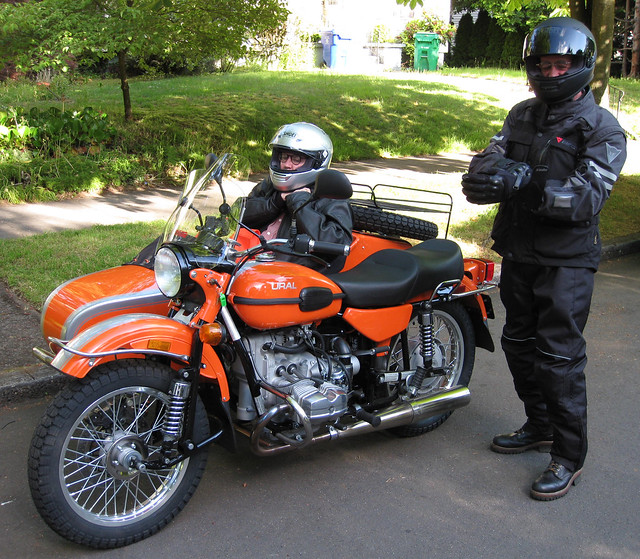helmet: (260, 117, 350, 201), (520, 22, 601, 98)
